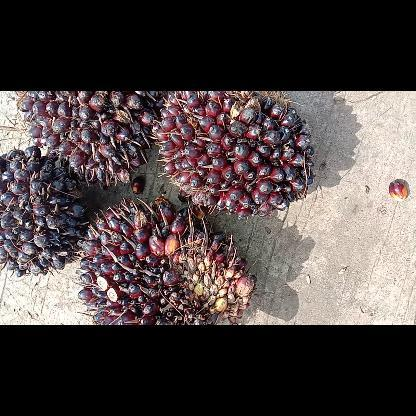TBS mentah: (76, 194, 260, 324), (154, 90, 316, 222), (18, 92, 168, 188), (0, 143, 88, 277)
